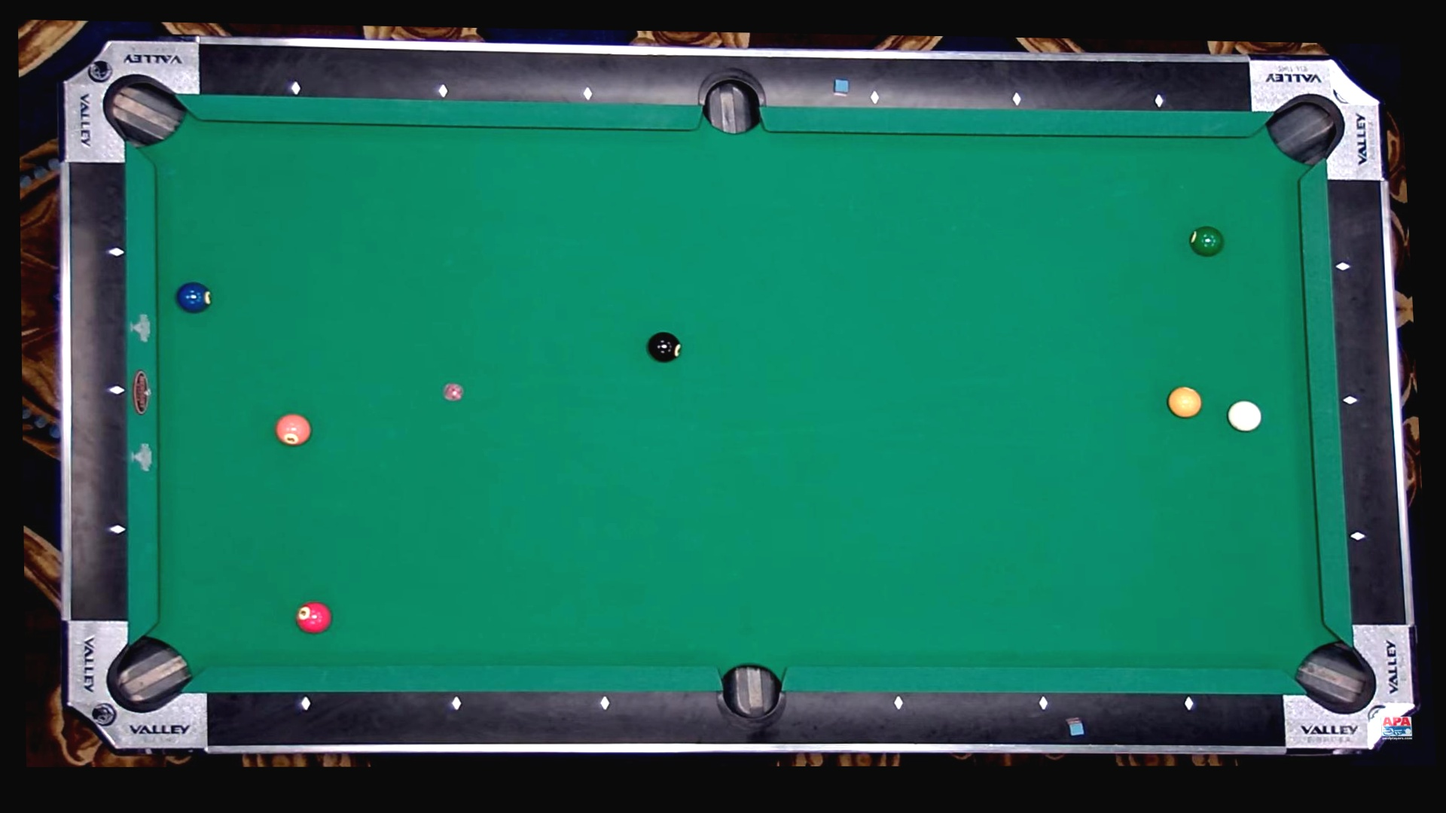Black: (648, 331, 682, 364)
Cue: (1227, 399, 1263, 433)
Solid: (299, 697, 310, 708), (112, 385, 122, 396), (111, 247, 121, 258), (291, 83, 301, 94), (438, 86, 449, 96), (870, 92, 880, 103), (1012, 94, 1022, 105), (1154, 96, 1164, 107), (1337, 261, 1347, 272), (1345, 395, 1355, 406), (1353, 532, 1364, 542), (1038, 698, 1048, 709), (893, 698, 903, 709), (599, 698, 610, 708), (450, 698, 461, 708), (112, 525, 122, 535), (583, 89, 593, 99), (1184, 699, 1194, 709)
Striped: (175, 280, 211, 315), (1188, 225, 1225, 259), (1167, 385, 1202, 420), (296, 600, 331, 634), (276, 413, 311, 447)
